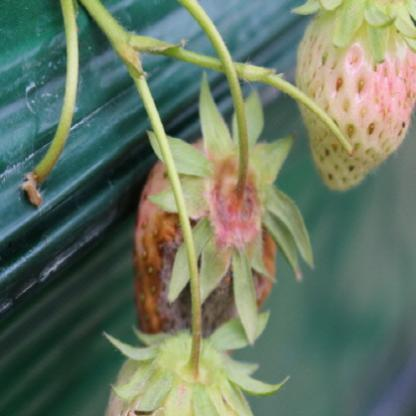Strawberry_Gray_Mold: (132, 159, 279, 339)
